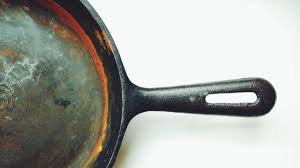rust: (49, 4, 83, 39), (94, 92, 109, 149), (86, 46, 109, 80)
